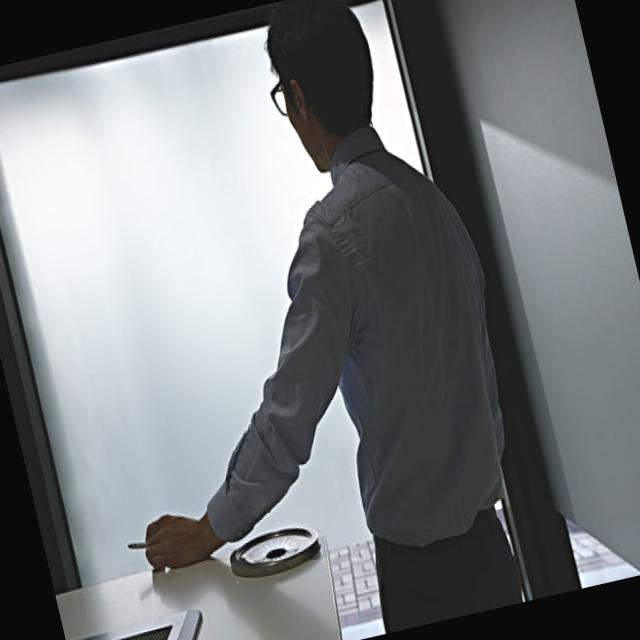cigarette: (124, 534, 148, 556)
